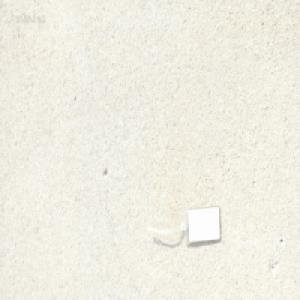LuggageTag: (145, 203, 221, 246)
